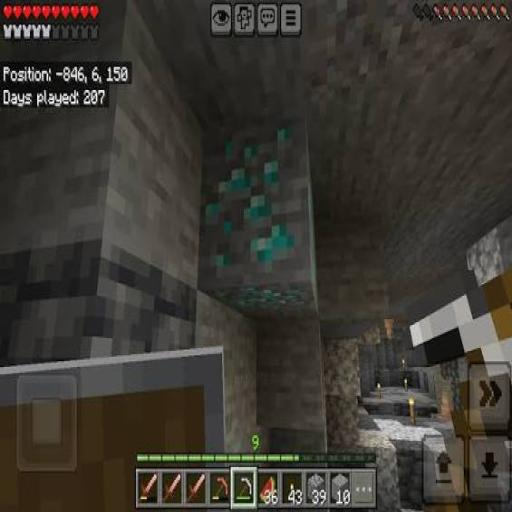emerald ore: (204, 119, 320, 324)
